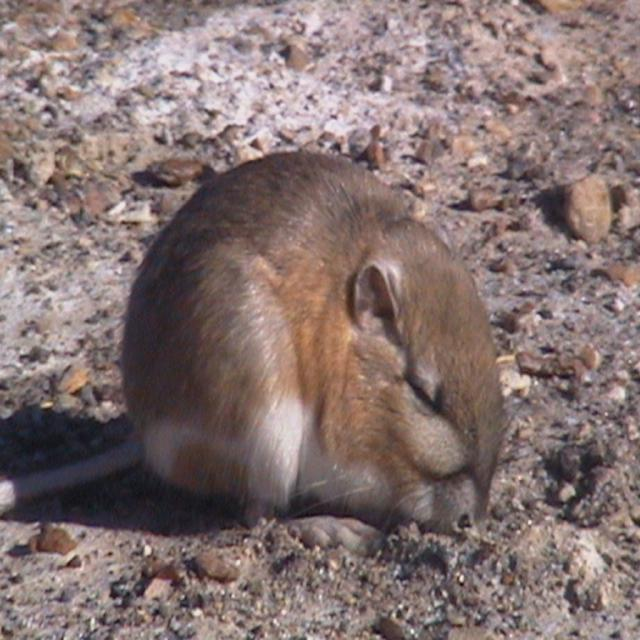rat: (0, 157, 523, 547)
